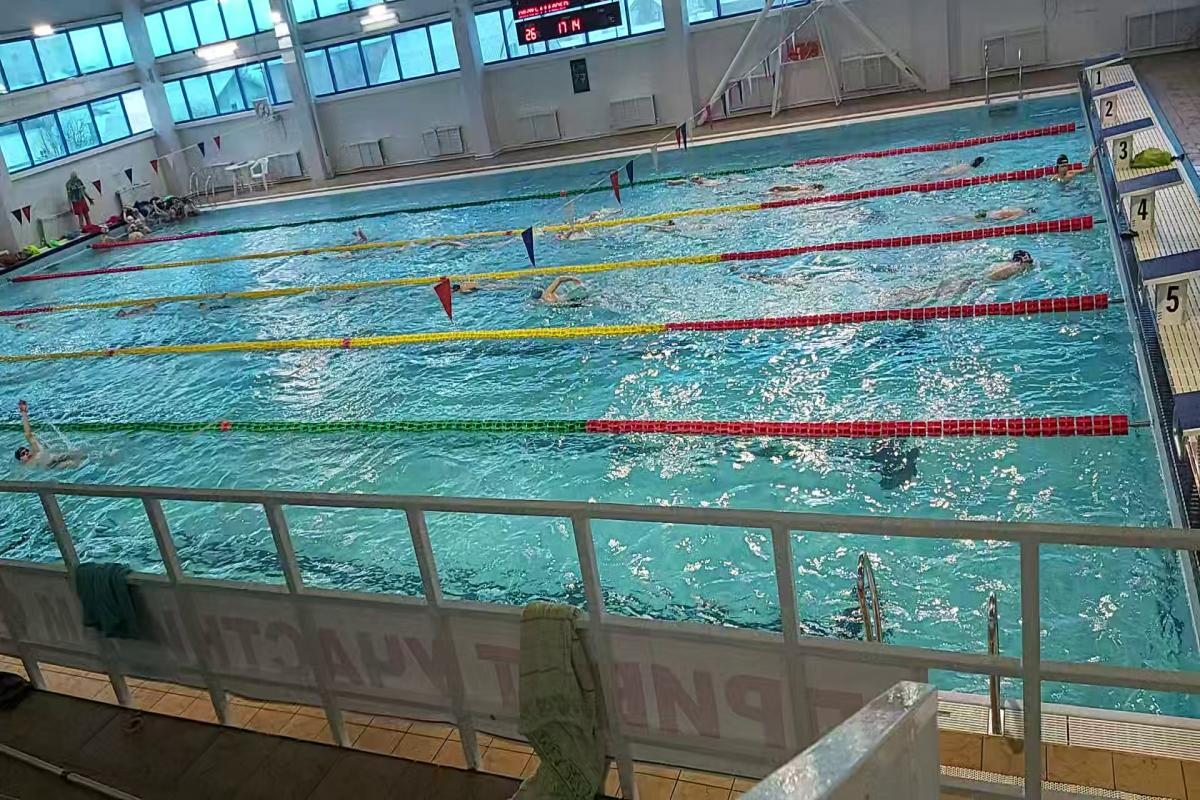swimmer: (896, 244, 1056, 298), (1, 402, 92, 472), (528, 272, 604, 312), (951, 202, 1053, 230), (906, 157, 1006, 179), (1043, 145, 1089, 190), (760, 172, 839, 196), (448, 278, 517, 298), (678, 172, 750, 190), (189, 296, 249, 313), (112, 302, 168, 317), (348, 226, 388, 247)
